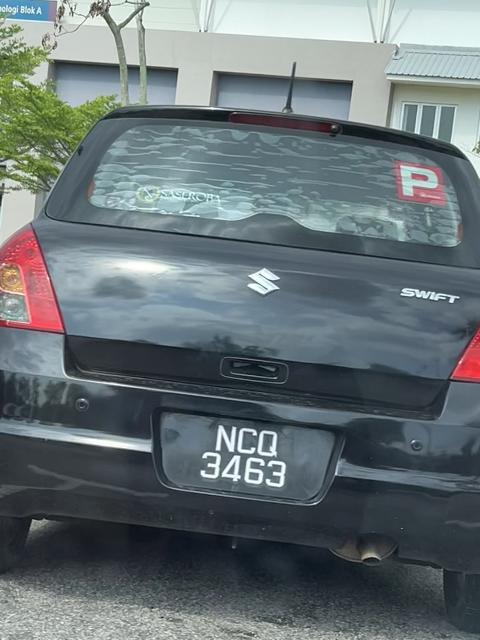License_Plate: (159, 410, 341, 501)
NCQ3463: (159, 410, 341, 501)
car: (1, 102, 480, 619)
